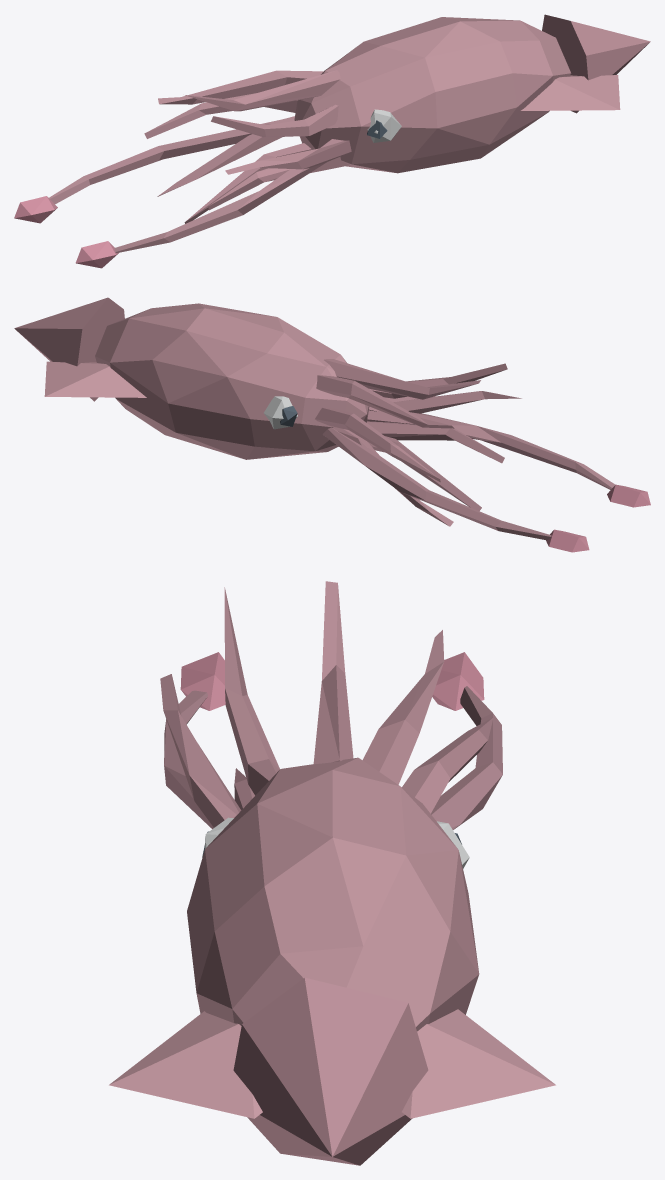
3 renders of one model, top to bottom at view 1: azimuth 30°, elevation 25°; view 2: azimuth 150°, elevation 25°; view 3: azimuth 270°, elevation 25°, orthographic. The views are drawn at different scales.
Visible parts, largest first — view 1: sea_squid.001; view 2: sea_squid.001; view 3: sea_squid.001.
Boxes of the visible parts, left/top/right/bottom form: sea_squid.001: left=14, top=14, right=650, bottom=268; sea_squid.001: left=14, top=297, right=650, bottom=552; sea_squid.001: left=109, top=581, right=555, bottom=1165.
Bounding box in the file's own units: 5.89 × 1.28 × 1.89.
